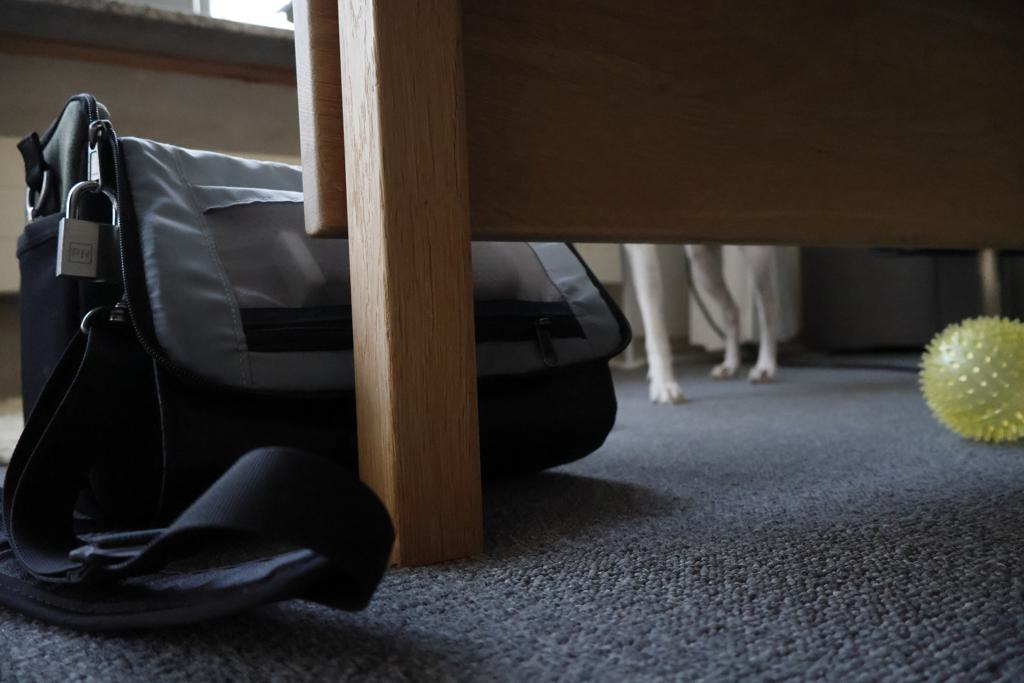Dog: (615, 237, 784, 408)
